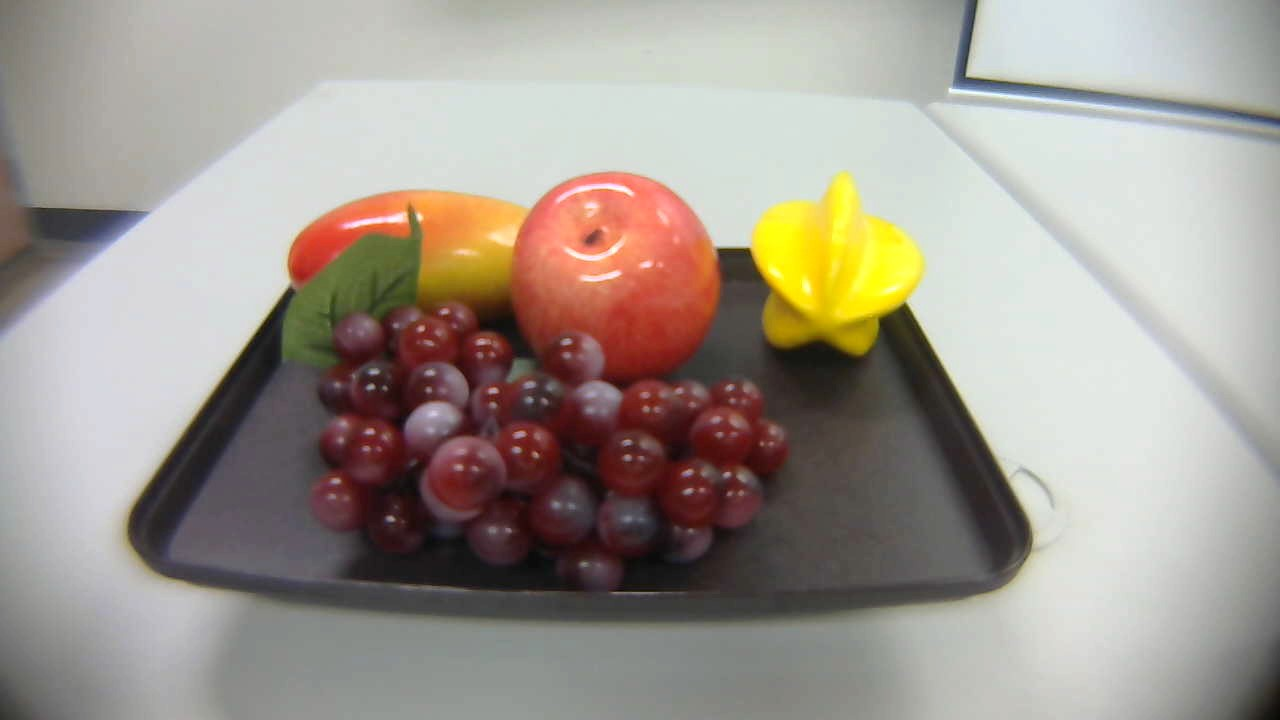grape: (268, 201, 798, 609)
red apple: (510, 169, 720, 398)
red mango: (280, 191, 553, 324)
star fruit: (740, 166, 938, 371)
